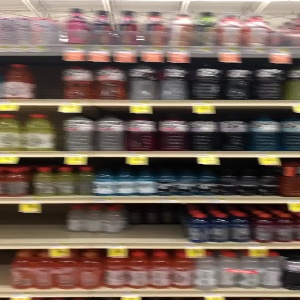void: (1, 204, 65, 242)
